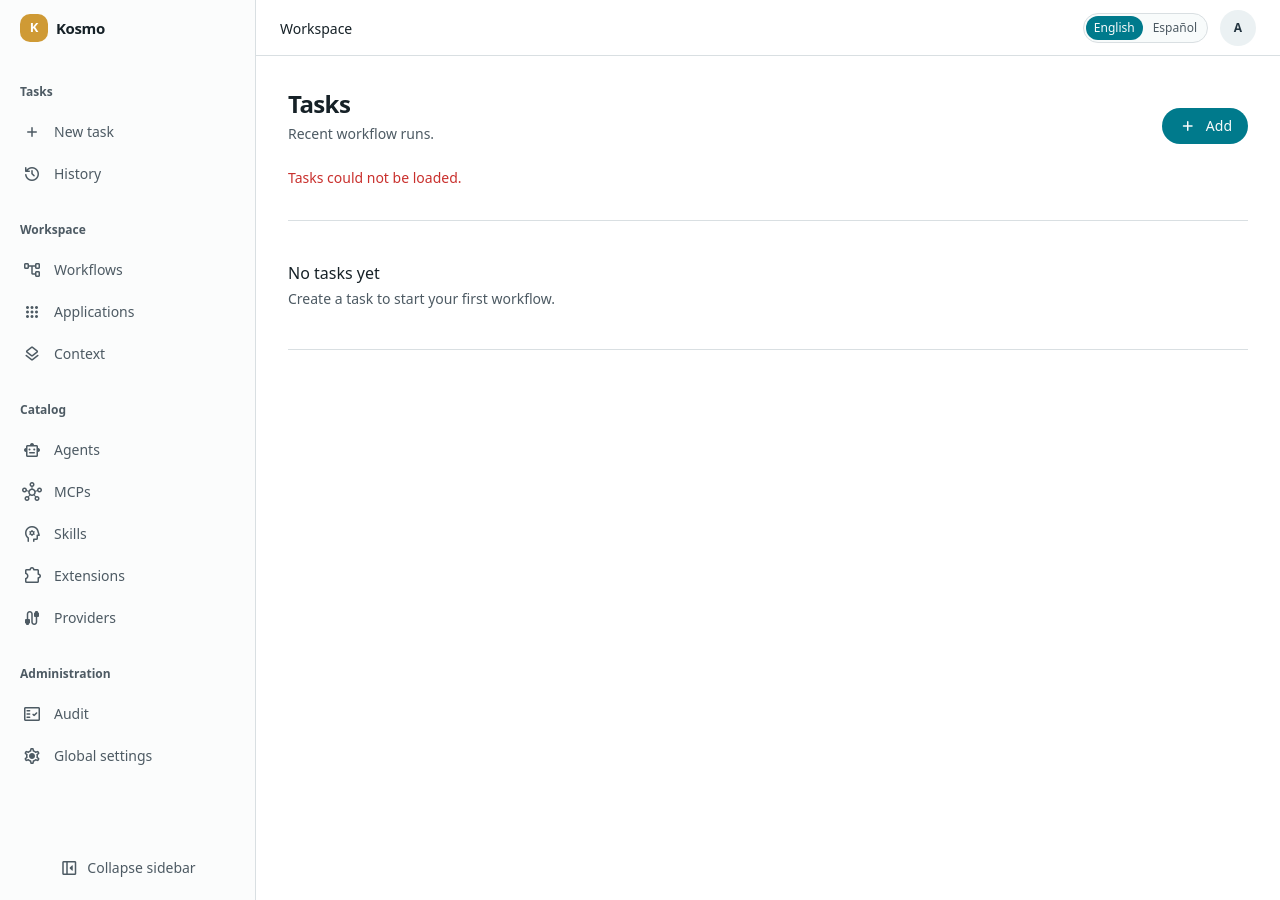
Test case: app shell and routes › closes the user menu when the route changes
The width and height of the screenshot is (1280, 900).
Click the button named "User menu". click: (1238, 28)
box: top-left (1220, 10), bottom-right (1256, 46)
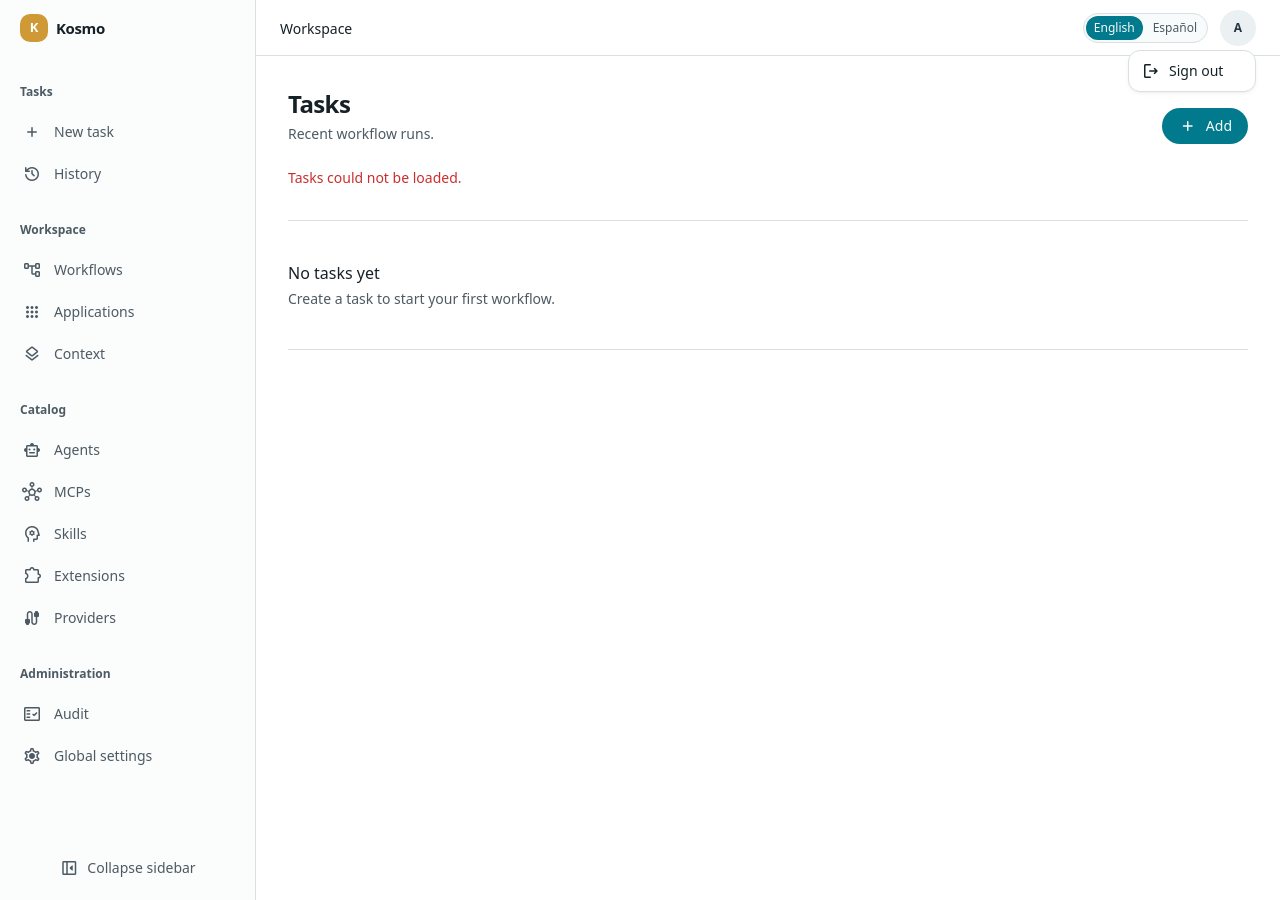
Result: the menu item "Sign out" is shown at top-left (1141, 59), bottom-right (1223, 83)
Click the link "Workflows". click: (72, 270)
box: top-left (22, 258), bottom-right (123, 282)
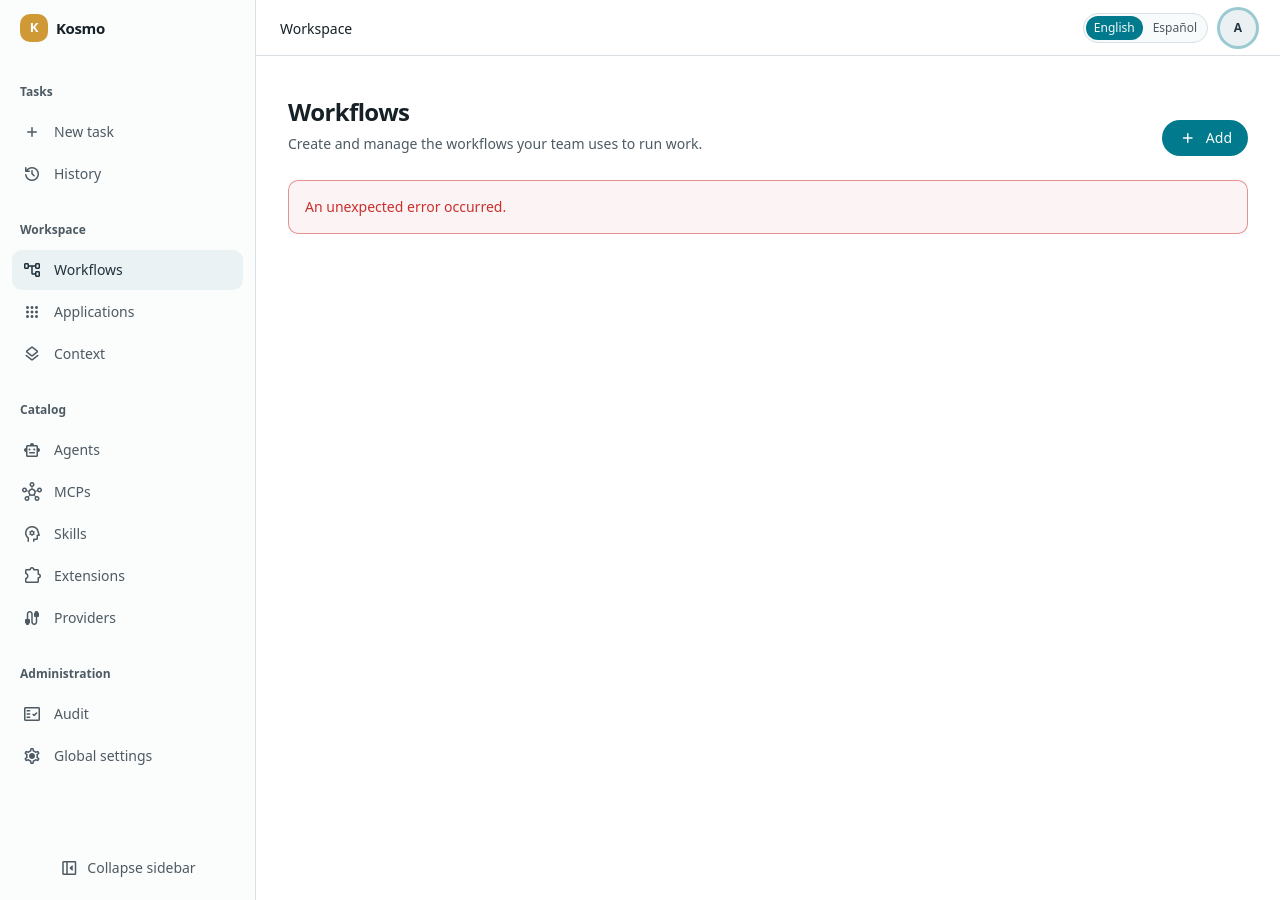
Result: the menu item "Sign out" is gone
Result: the button named "User menu" is collapsed at top-left (1220, 10), bottom-right (1256, 46)
